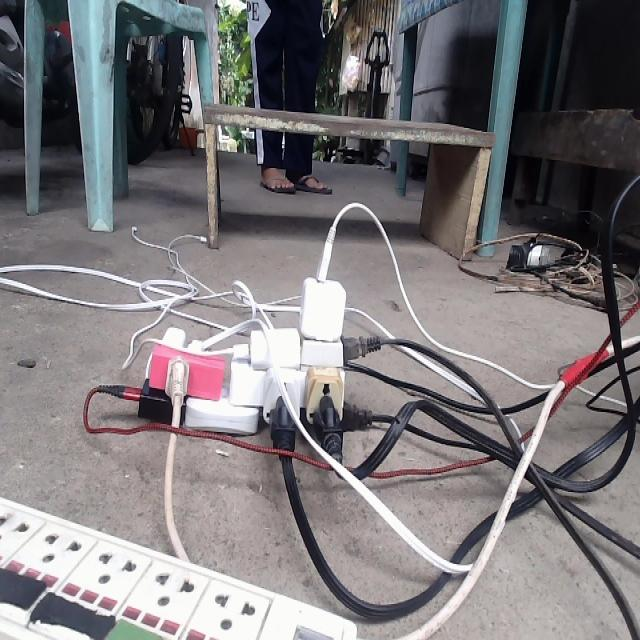-: (134, 271, 376, 457)
